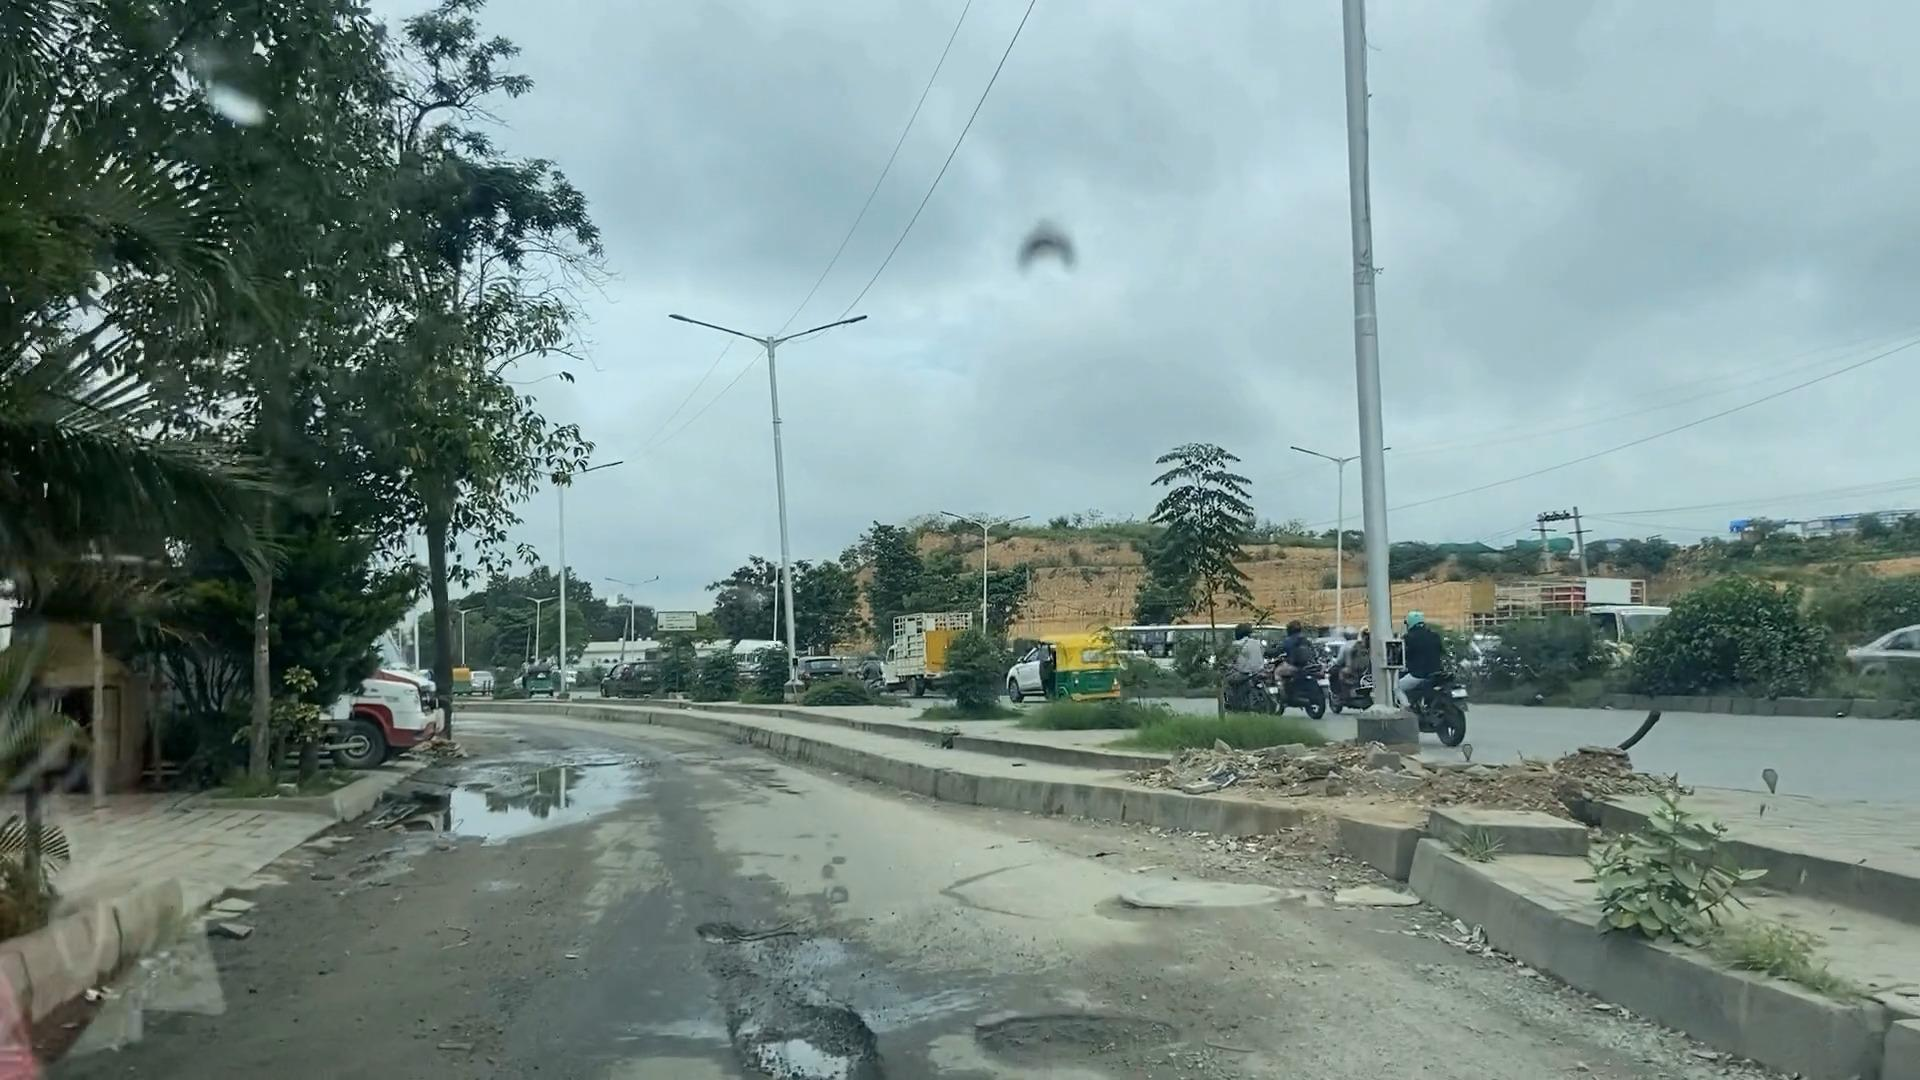RoadDamages: (670, 927, 893, 1080), (1091, 877, 1400, 953), (980, 993, 1184, 1080)
